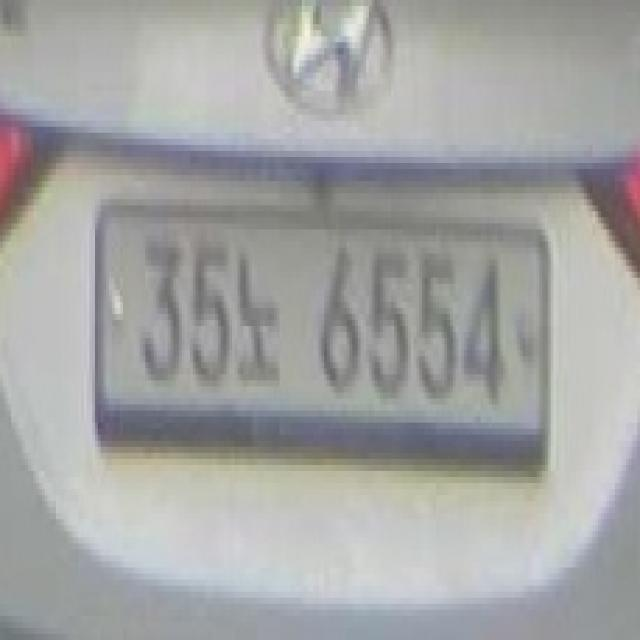3: (140, 236, 184, 386)
4: (461, 253, 503, 404)
5: (366, 242, 411, 398), (416, 248, 458, 404), (190, 242, 232, 386)
6: (316, 242, 360, 398)
license_plate: (92, 199, 551, 465)
no: (238, 248, 282, 392)
